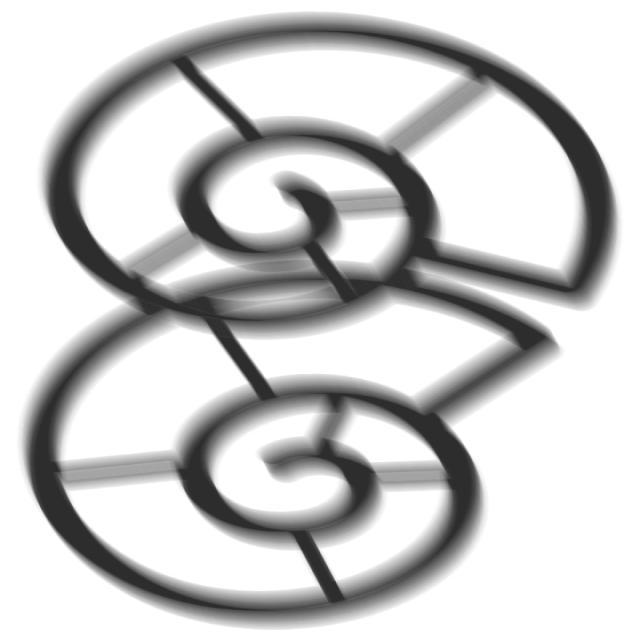fossil: (13, 252, 574, 632), (30, 11, 625, 347)
